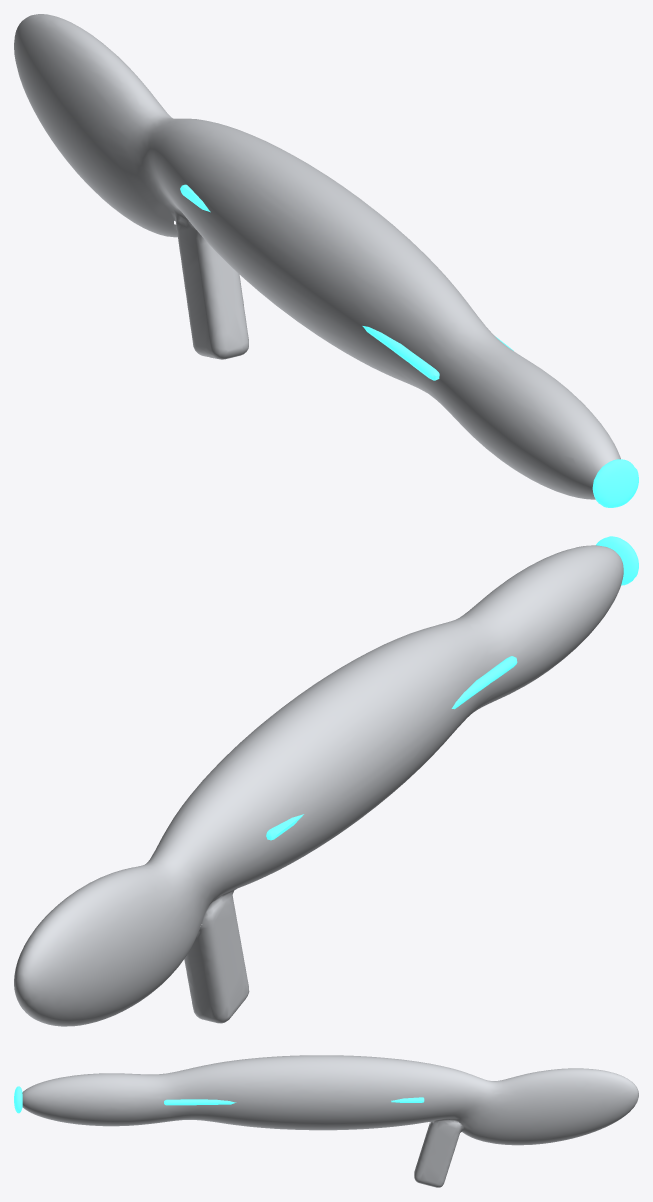
The model's file is w-plasma.glb.
3 renders of one model, top to bottom at view 1: azimuth 30°, elevation 25°; view 2: azimuth 150°, elevation 25°; view 3: azimuth 270°, elevation 25°, orthographic. The views are drawn at different scales.
Visible parts, largest first — view 1: w-plasma; view 2: w-plasma; view 3: w-plasma.
Boxes of the visible parts, left/top/right/bottom form: w-plasma: left=14, top=14, right=638, bottom=507; w-plasma: left=14, top=536, right=638, bottom=1026; w-plasma: left=14, top=1055, right=638, bottom=1187.
Size of the model in its own units: 0.08 by 0.1814 by 0.8042.
